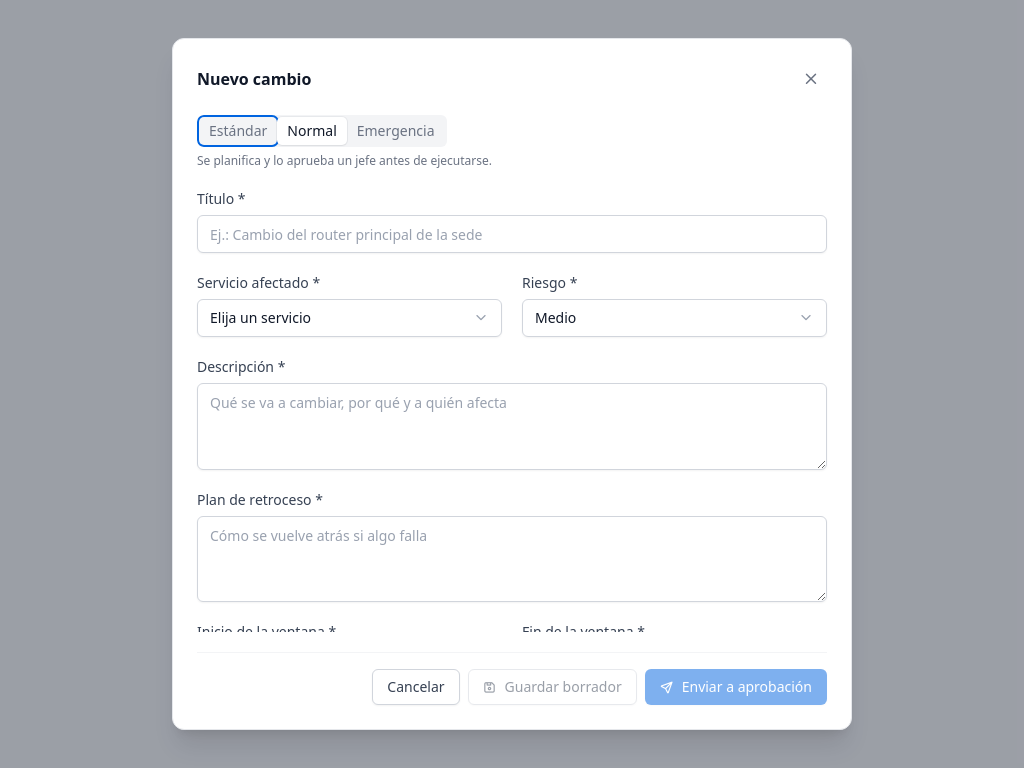
CambioForm — nuevo cambio › emergencia: la ventana es opcional, pero el plan de retroceso sigue siendo obligatorio
Type "  Cambio del router principal " into the field labelled "Título *" at (512, 234), box [198,216,826,252]
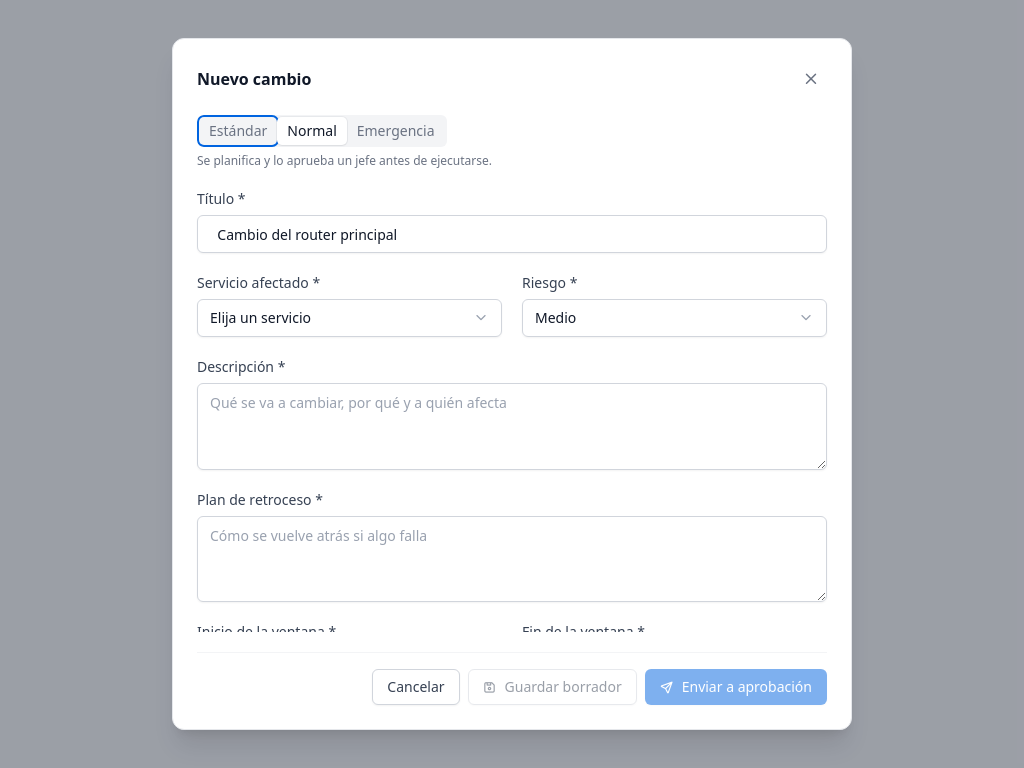
Select "Internet y red" in the dropdown labelled "Servicio afectado *" at (350, 318), box [198,300,501,336]
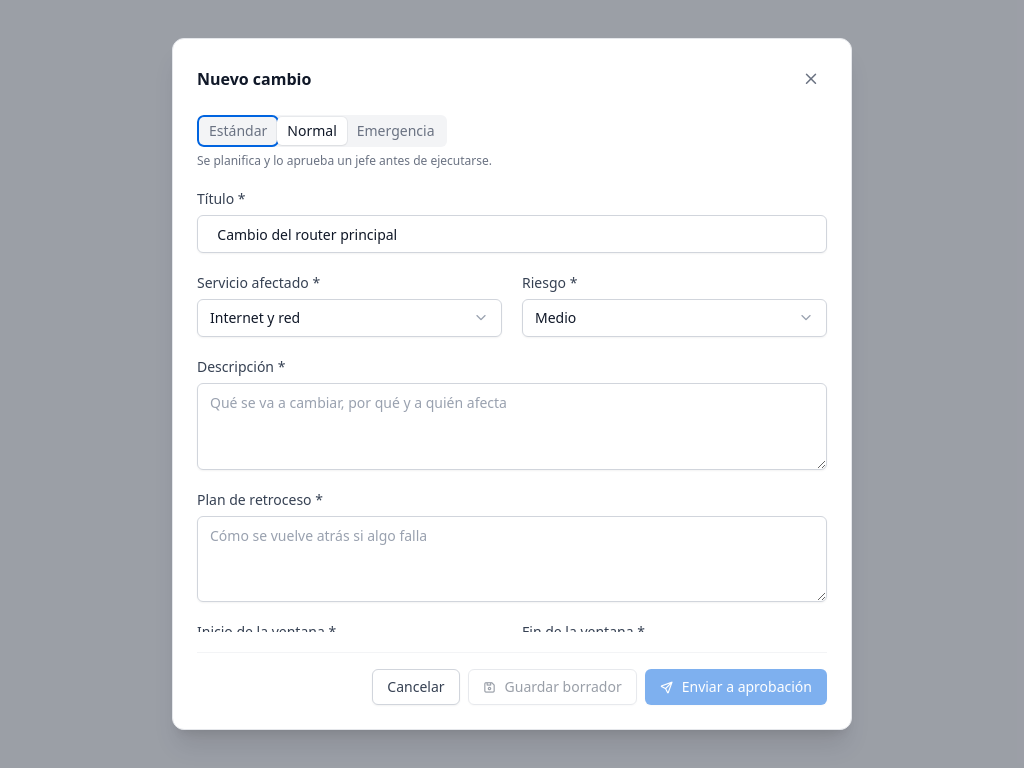
Type "Reemplazar el router de la sede" into the text box labelled "Descripción *" at (512, 427), box [198,384,826,469]
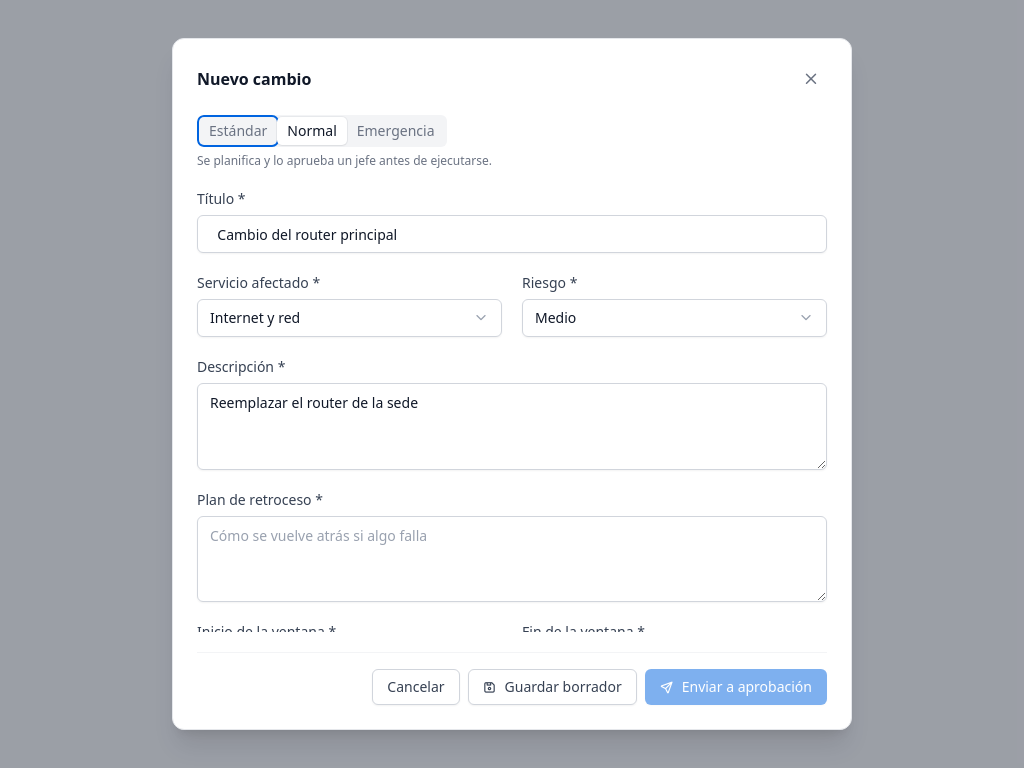
Click the button "Emergencia" at (396, 131), box [347,117,445,145]
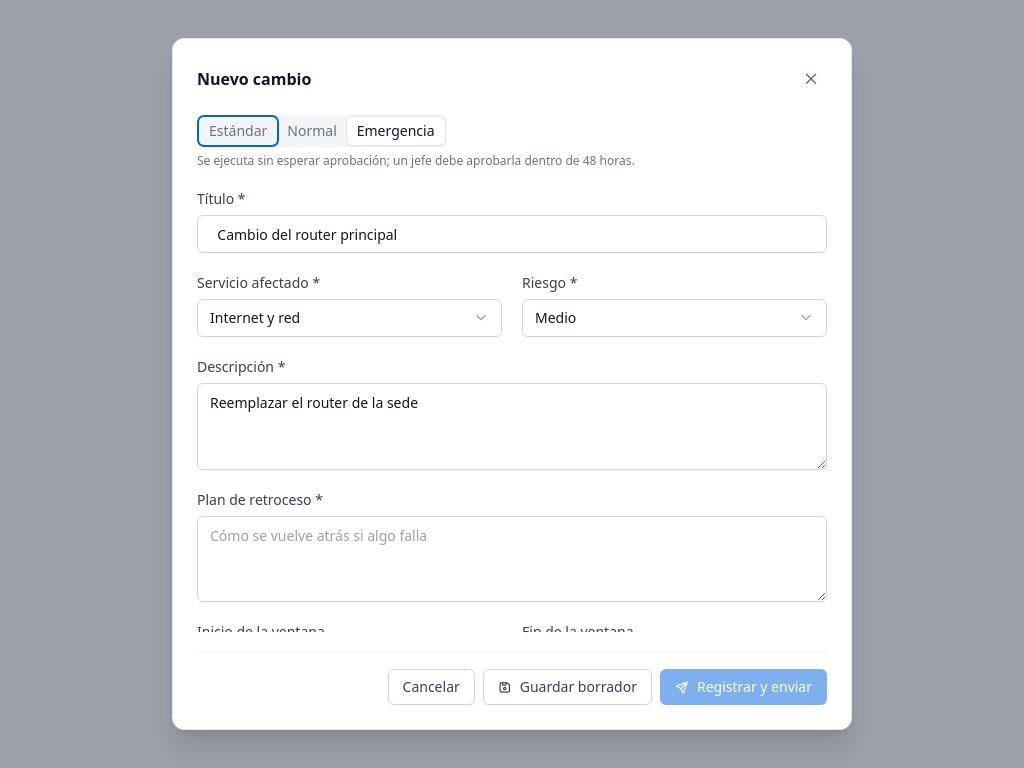
Expected: the button "Registrar y enviar" is disabled, [660,669,827,705]
Type "Volver al enlace de respaldo" into the text box labelled "Plan de retroceso *" at (512, 559), box [198,517,826,601]
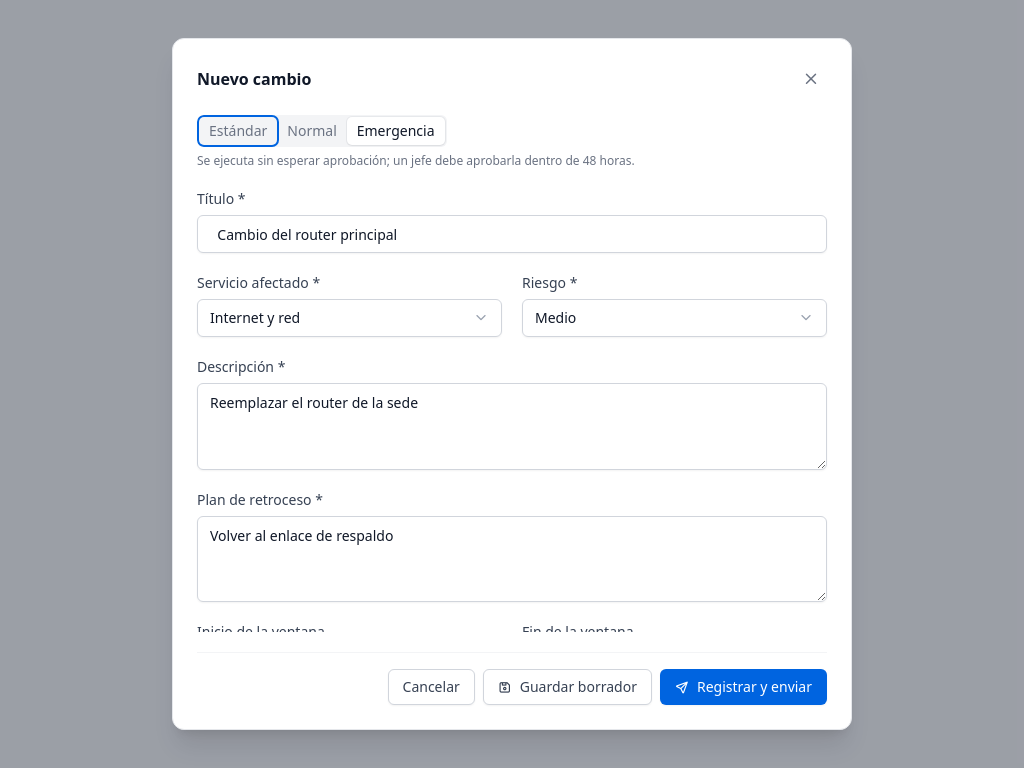
Now the button "Registrar y enviar" is enabled, box [660,669,827,705]
